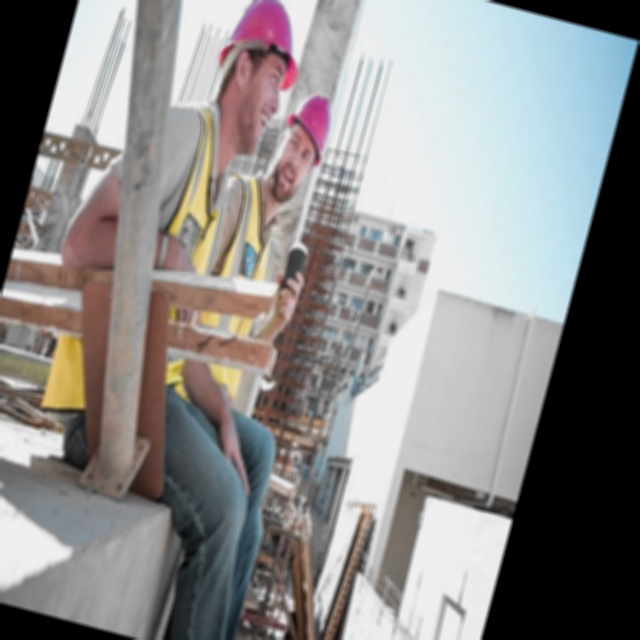Con_Chaleco: (39, 99, 247, 433), (175, 173, 303, 392)
